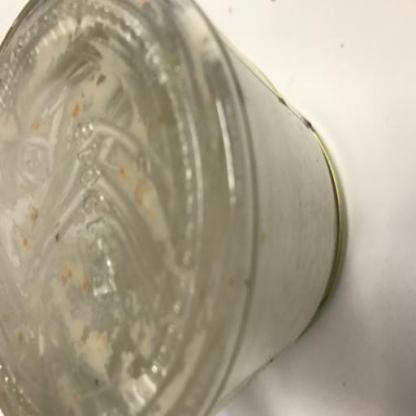trash: (0, 1, 348, 413)
